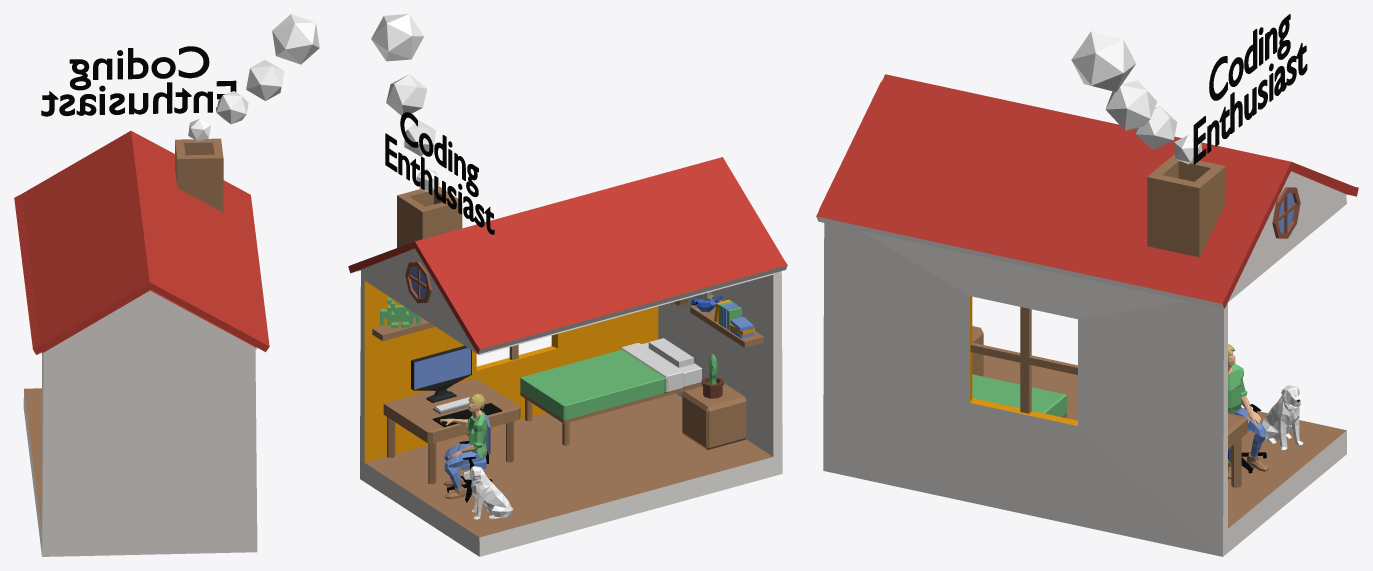
Rendered from home.glb.
3 views of the same model, side by side, from view 1: azimuth 30°, elevation 25°; view 2: azimuth 150°, elevation 25°; view 3: azimuth 270°, elevation 25° (orthographic). The views are drawn at different scales.
Visible parts, largest first — view 1: Cube.021, Text.008, Cube.008, Icosphere.036, Icosphere.035, Icosphere.034, Icosphere.033; view 2: Cube.021, Cube.022, Cube.023, Cube.028, Text.008, Cube.008, Cube.030, male.004_Circle.001, Icosphere.036, Beto-Lowpoly-Flowalistik, Icosphere.035, Cylinder.018 (+7 smaller); view 3: Cube.021, Cube.008, Text.008, Icosphere.036, Cube.024, Cube.022, male.004_Circle.001, Icosphere.035, Beto-Lowpoly-Flowalistik, Cylinder.018, Icosphere.034, Cube.023.
Part boxes in pixels (bbox=[...]): Cube.021: bbox=[14, 131, 269, 556]; Text.008: bbox=[41, 46, 236, 116]; Cube.008: bbox=[175, 138, 223, 212]; Icosphere.036: bbox=[272, 14, 319, 64]; Icosphere.035: bbox=[246, 60, 284, 100]; Icosphere.034: bbox=[216, 91, 248, 124]; Icosphere.033: bbox=[188, 119, 210, 141]; Cube.021: bbox=[348, 157, 787, 556]; Cube.022: bbox=[520, 342, 701, 445]; Cube.023: bbox=[383, 378, 520, 483]; Cube.028: bbox=[682, 383, 746, 449]; Text.008: bbox=[385, 112, 494, 234]; Cube.008: bbox=[397, 185, 462, 247]; Cube.030: bbox=[411, 345, 471, 402]; male.004_Circle.001: bbox=[440, 394, 486, 499]; Icosphere.036: bbox=[371, 14, 424, 61]; Beto-Lowpoly-Flowalistik: bbox=[463, 466, 513, 519]; Icosphere.035: bbox=[386, 74, 427, 115]; Cylinder.018: bbox=[405, 261, 431, 303]; Cube.021: bbox=[816, 74, 1358, 556]; Cube.008: bbox=[1147, 155, 1225, 257]; Text.008: bbox=[1193, 14, 1307, 164]; Icosphere.036: bbox=[1071, 31, 1135, 91]; Cube.024: bbox=[970, 307, 1077, 413]; Cube.022: bbox=[972, 374, 1066, 417]; male.004_Circle.001: bbox=[1228, 344, 1268, 478]; Icosphere.035: bbox=[1105, 80, 1157, 130]; Beto-Lowpoly-Flowalistik: bbox=[1261, 385, 1303, 450]; Cylinder.018: bbox=[1272, 187, 1300, 238]; Icosphere.034: bbox=[1135, 106, 1177, 150]; Cube.023: bbox=[1228, 413, 1247, 487].
Bounding box in the file's own units: 4.95 × 5.76 × 5.37.
